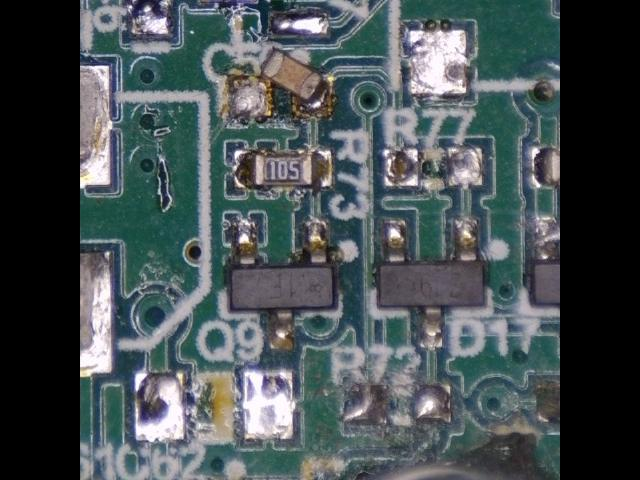Incorrect_installation: (231, 220, 340, 350), (228, 48, 334, 119)
